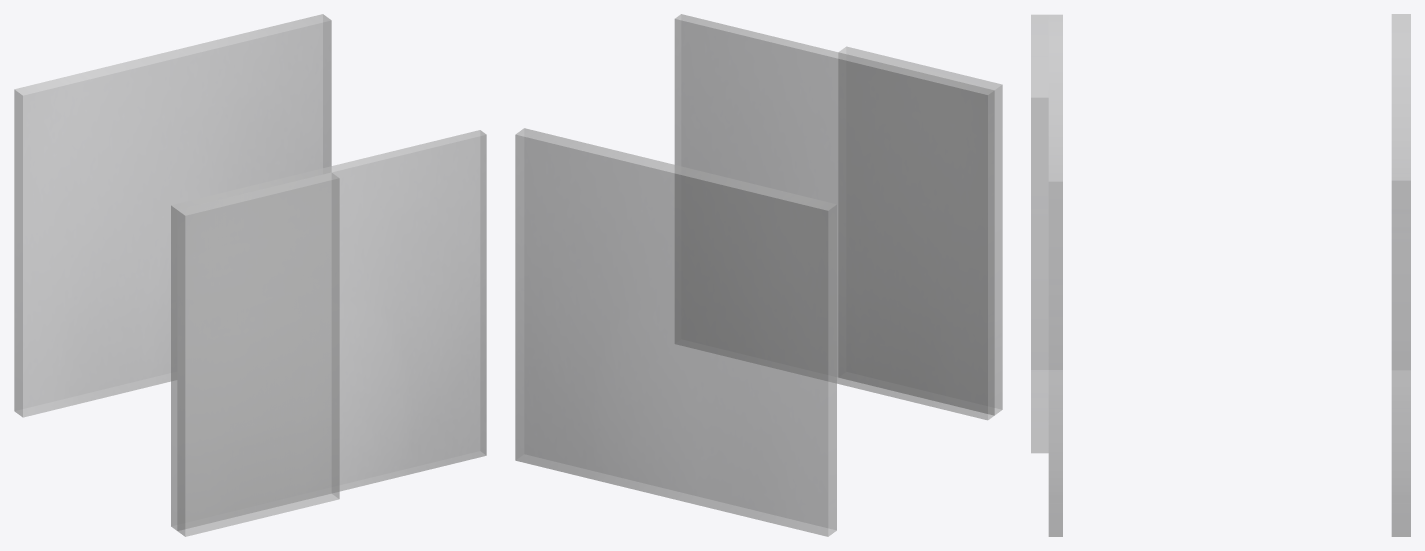
File: elevator_doors.FBX
3 renders of one model, left to right at view 1: azimuth 30°, elevation 25°; view 2: azimuth 150°, elevation 25°; view 3: azimuth 270°, elevation 25°, orthographic. The views are drawn at different scales.
Visible parts, largest first — view 1: Box003; view 2: Box003; view 3: Box003.
Boxes of the visible parts, left/top/right/bottom form: Box003: left=14, top=14, right=486, bottom=536; Box003: left=515, top=14, right=1002, bottom=536; Box003: left=1031, top=14, right=1410, bottom=536.
Bounding box in the file's own units: 5.03 × 5.01 × 4.84.
